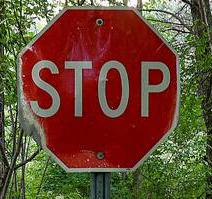Stop sign: (0, 0, 211, 198)
